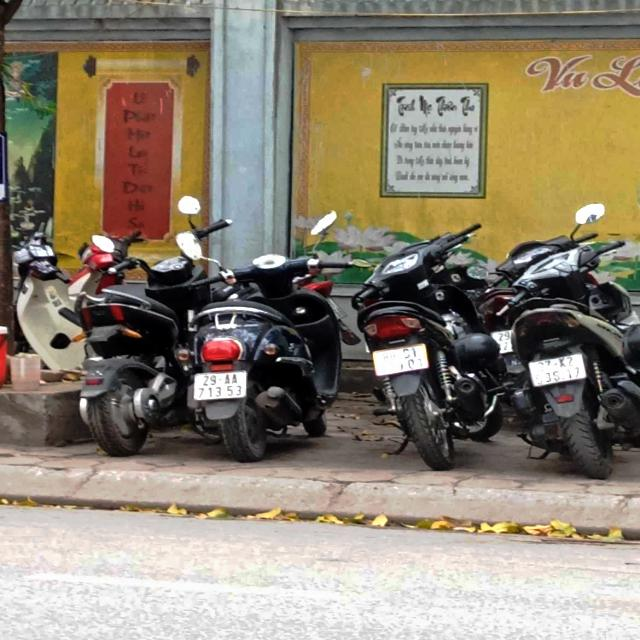license_plate: (529, 352, 591, 388), (371, 344, 432, 379), (194, 370, 248, 401)
